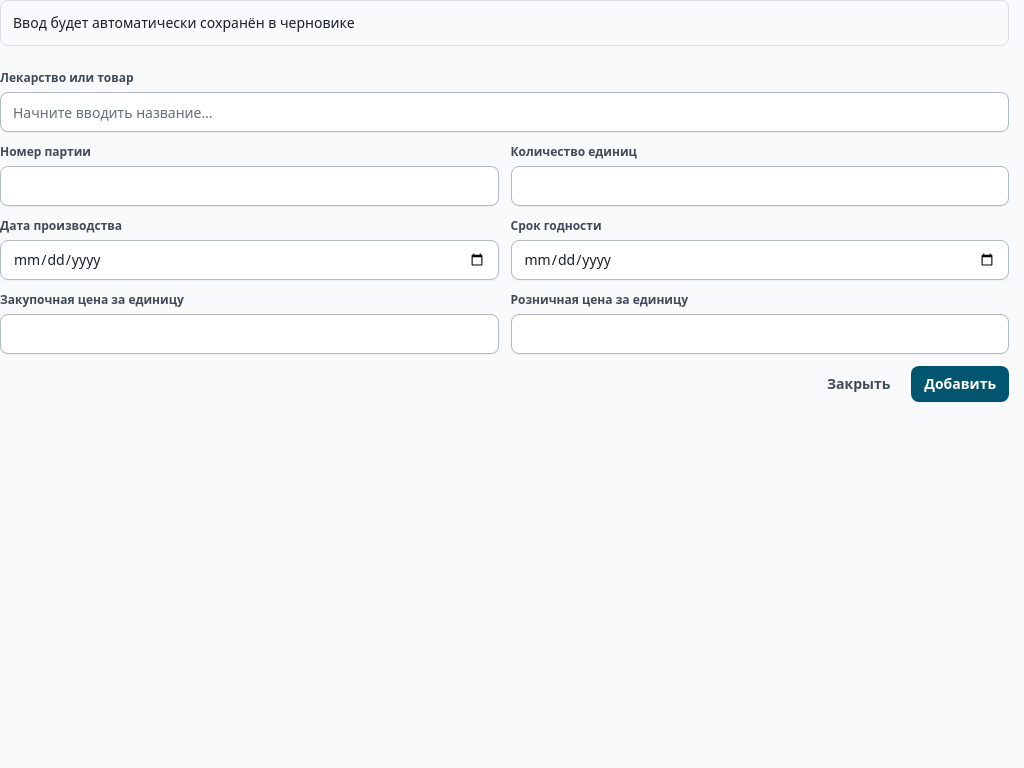
AddItemForm › preserves conflicting input until the user confirms loading the saved version
The width and height of the screenshot is (1024, 768).
In the field labelled "Количество единиц": x=760, y=186 [510,166,1009,206], type "12,"
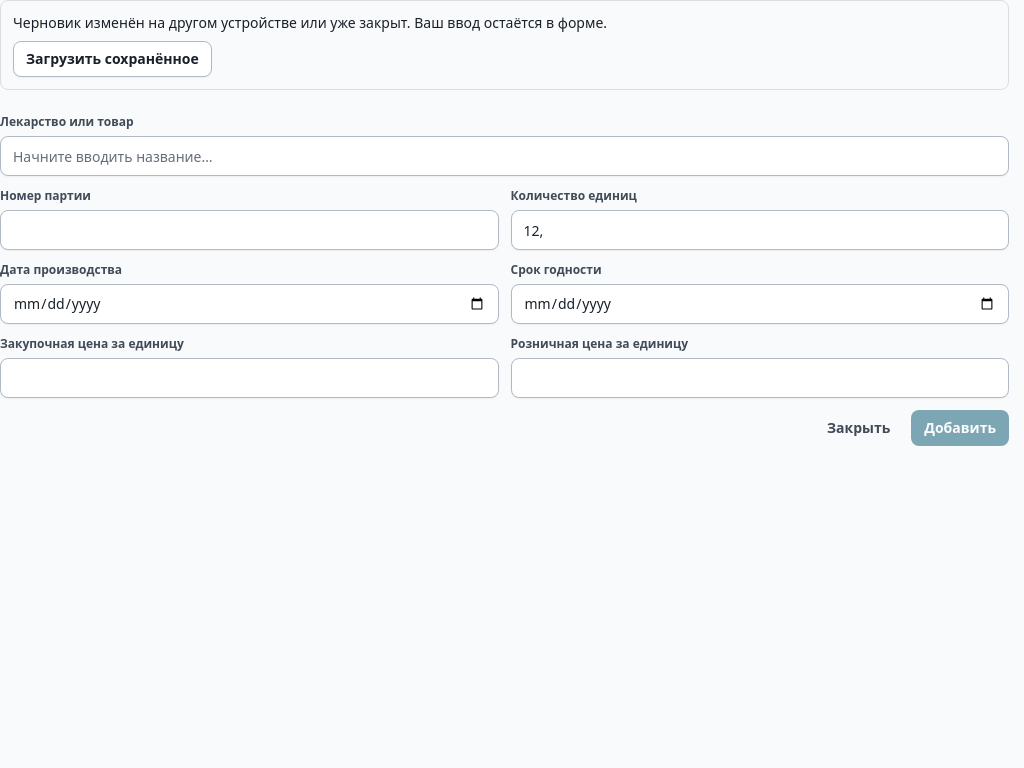
Click the button "Загрузить сохранённое": x=112, y=59 [13,41,212,77]
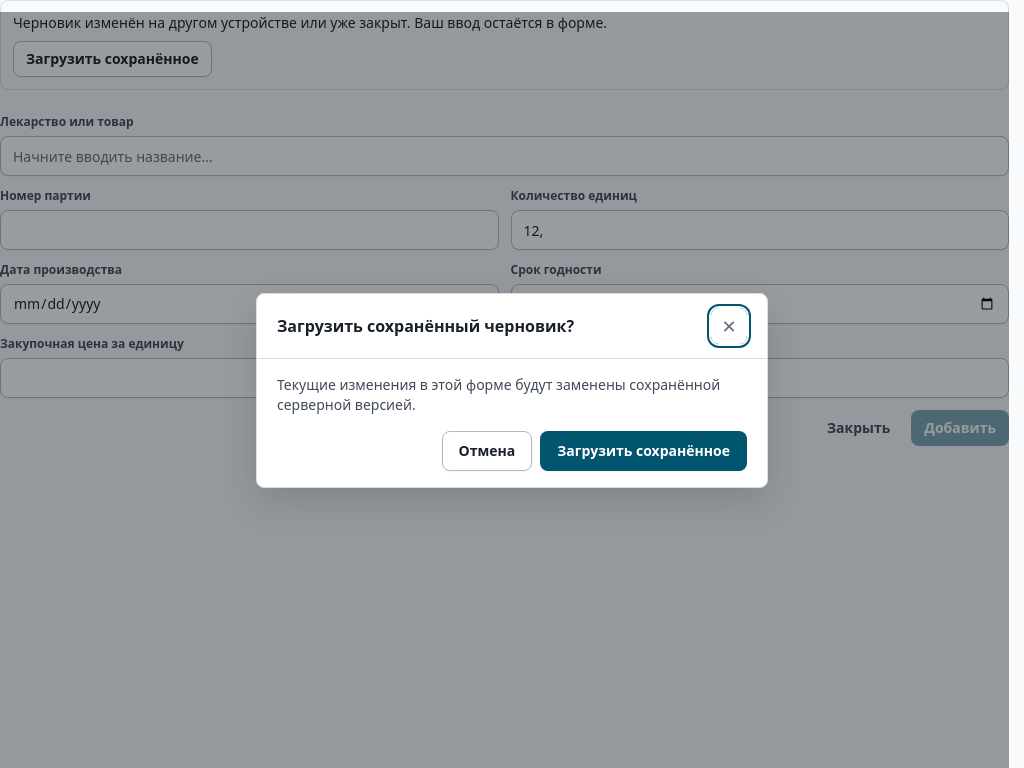
Click the button "Загрузить сохранённое": x=644, y=450 [540,430,747,470]
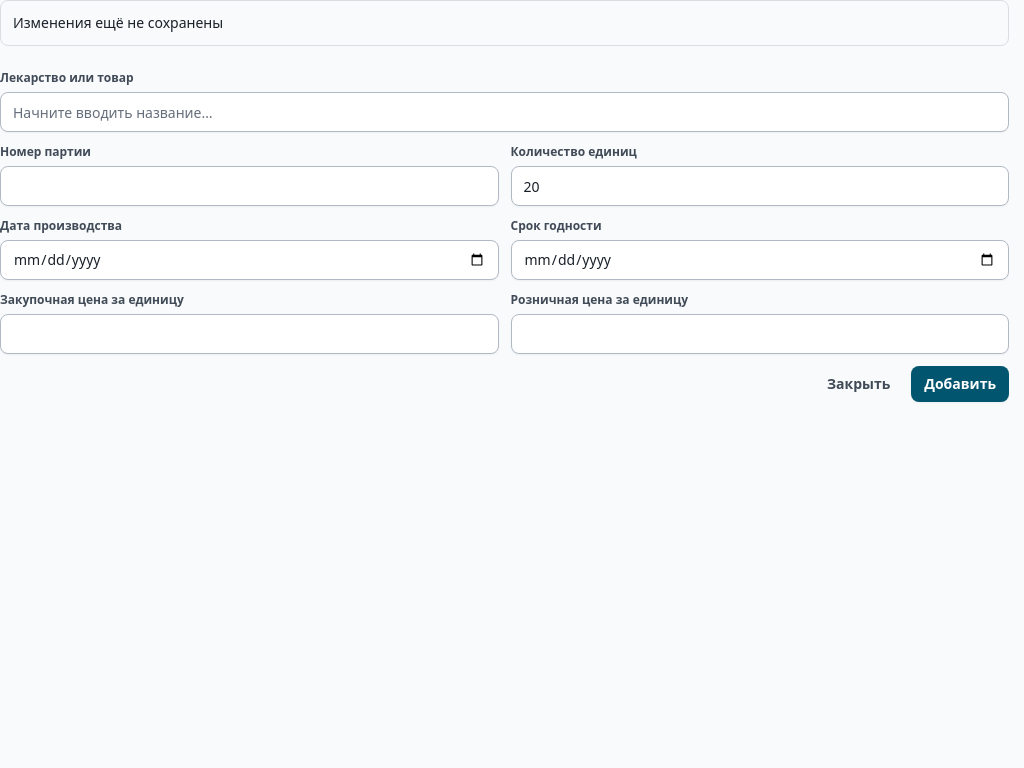
Result: the field labelled "Количество единиц" holds "20" at [510,166,1009,206]
